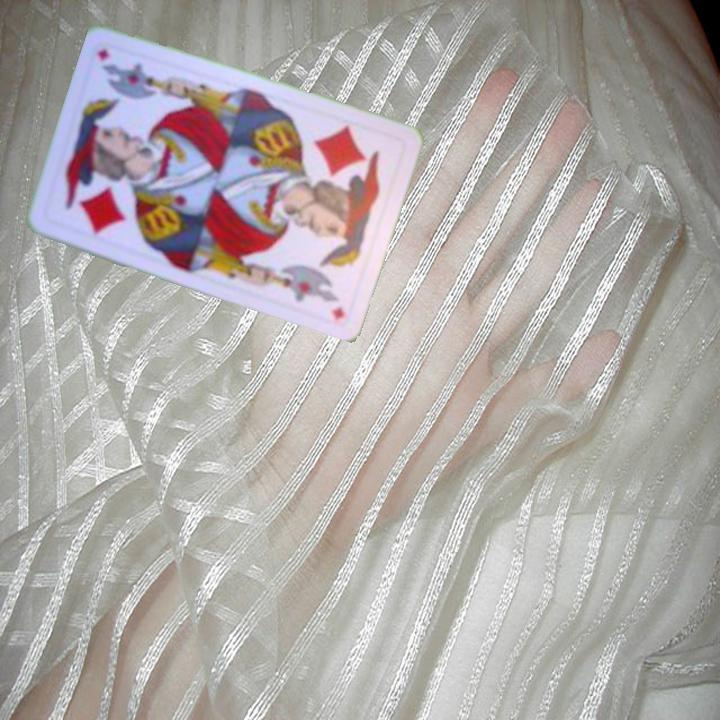d_j.png: (41, 128, 153, 248), (295, 114, 407, 234)
